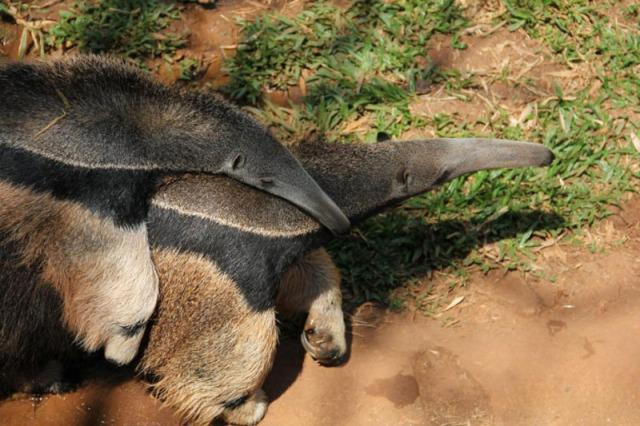TamanduaBandeira: (154, 128, 565, 415), (2, 52, 353, 363)
